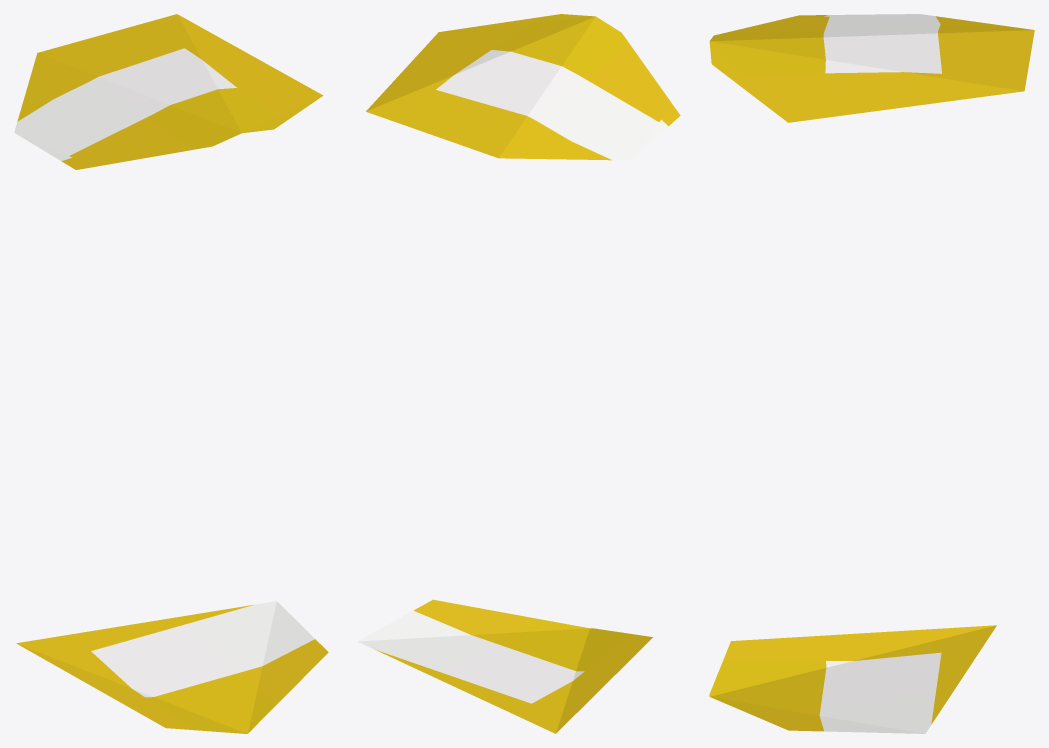
File: mp-01066-geode.glb
3 views of the same model, side by side, from view 1: azimuth 30°, elevation 25°; view 2: azimuth 150°, elevation 25°; view 3: azimuth 270°, elevation 25° (orthographic). The views are drawn at different scales.
Visible parts, largest first — view 1: Node; view 2: Node; view 3: Node.
Part boxes in pixels (x1,y1,x2,y2): Node: (14, 14, 328, 733); Node: (357, 14, 680, 733); Node: (709, 14, 1034, 733).
Bounding box in the file's own units: 0.145 × 0.3145 × 0.1423.
Materials: 1 (1 with a texture image).
